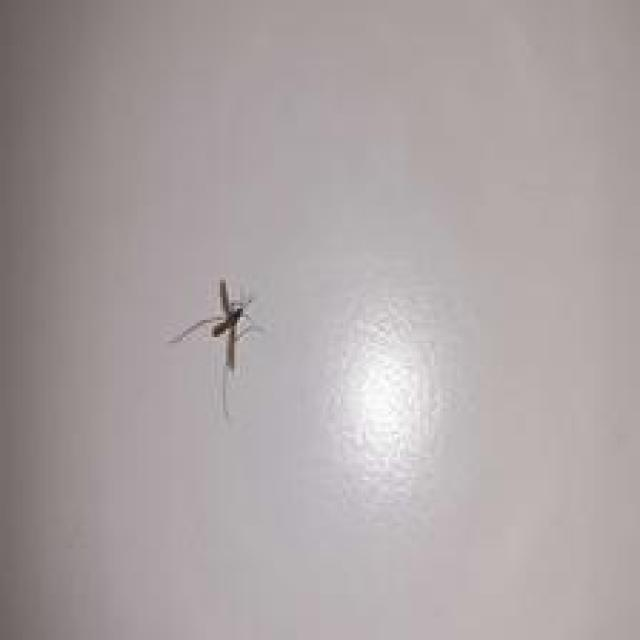Culex: (167, 276, 264, 418)
